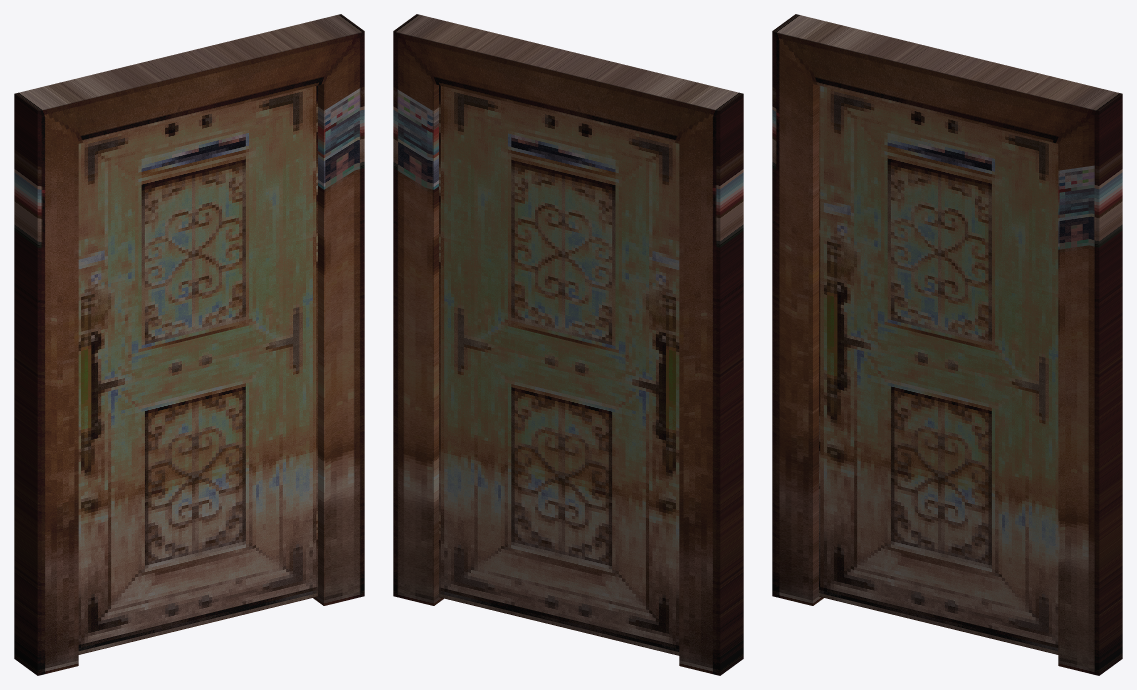
The model's file is env_door (1).glb.
The picture shows the model from 3 angles, left to right: view 1: azimuth 30°, elevation 25°; view 2: azimuth 150°, elevation 25°; view 3: azimuth 330°, elevation 25°; orthographic projection.
Visible parts, largest first — view 1: env_door_closed, env_door_frame; view 2: env_door_closed, env_door_frame; view 3: env_door_closed, env_door_frame.
Part boxes in pixels (<box>): env_door_closed: <box>78,85,317,654</box>; env_door_frame: <box>14,14,364,675</box>; env_door_closed: <box>439,85,679,655</box>; env_door_frame: <box>393,14,743,675</box>; env_door_closed: <box>819,85,1058,654</box>; env_door_frame: <box>772,14,1122,675</box>.
Size of the model in its own units: 1.6 by 2.64 by 0.2.
2 materials, 2 textured.
